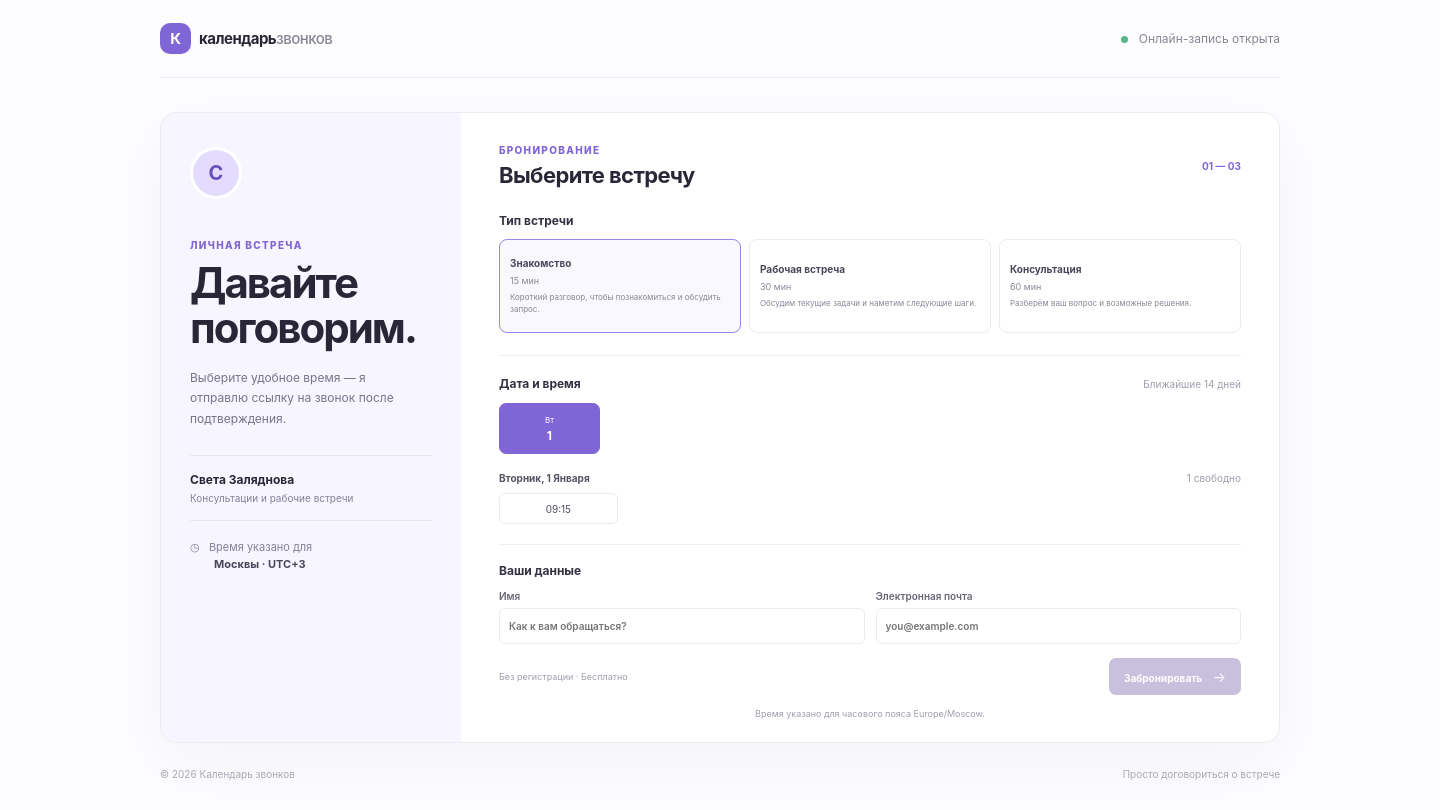
Test: booking application routes › submits the selected slot and shows the server confirmation
Click the button "09:15": {"x": 558, "y": 508} [499,493,618,524]
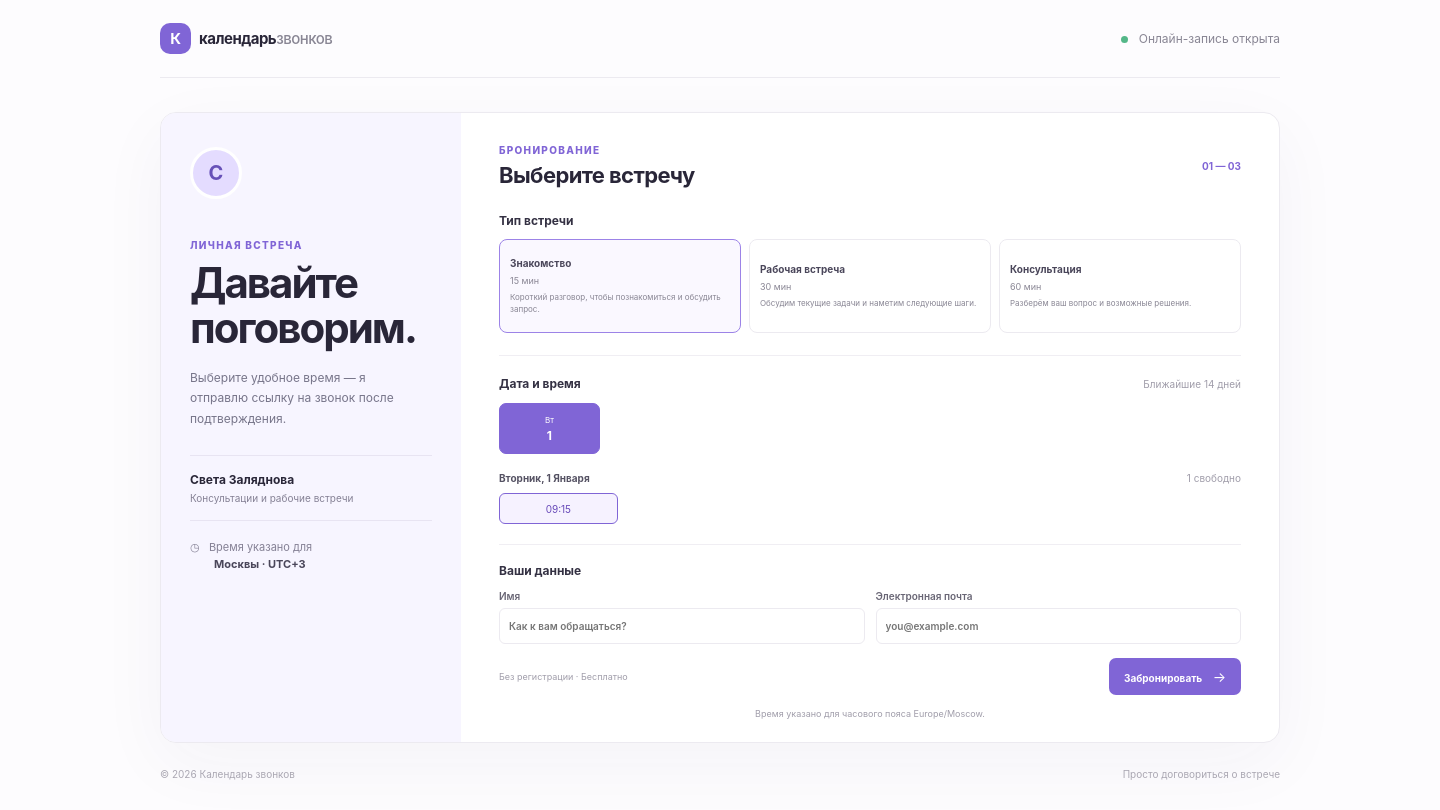
In the field labelled "Имя": {"x": 682, "y": 626} [499,608,864,644], type "Анна"
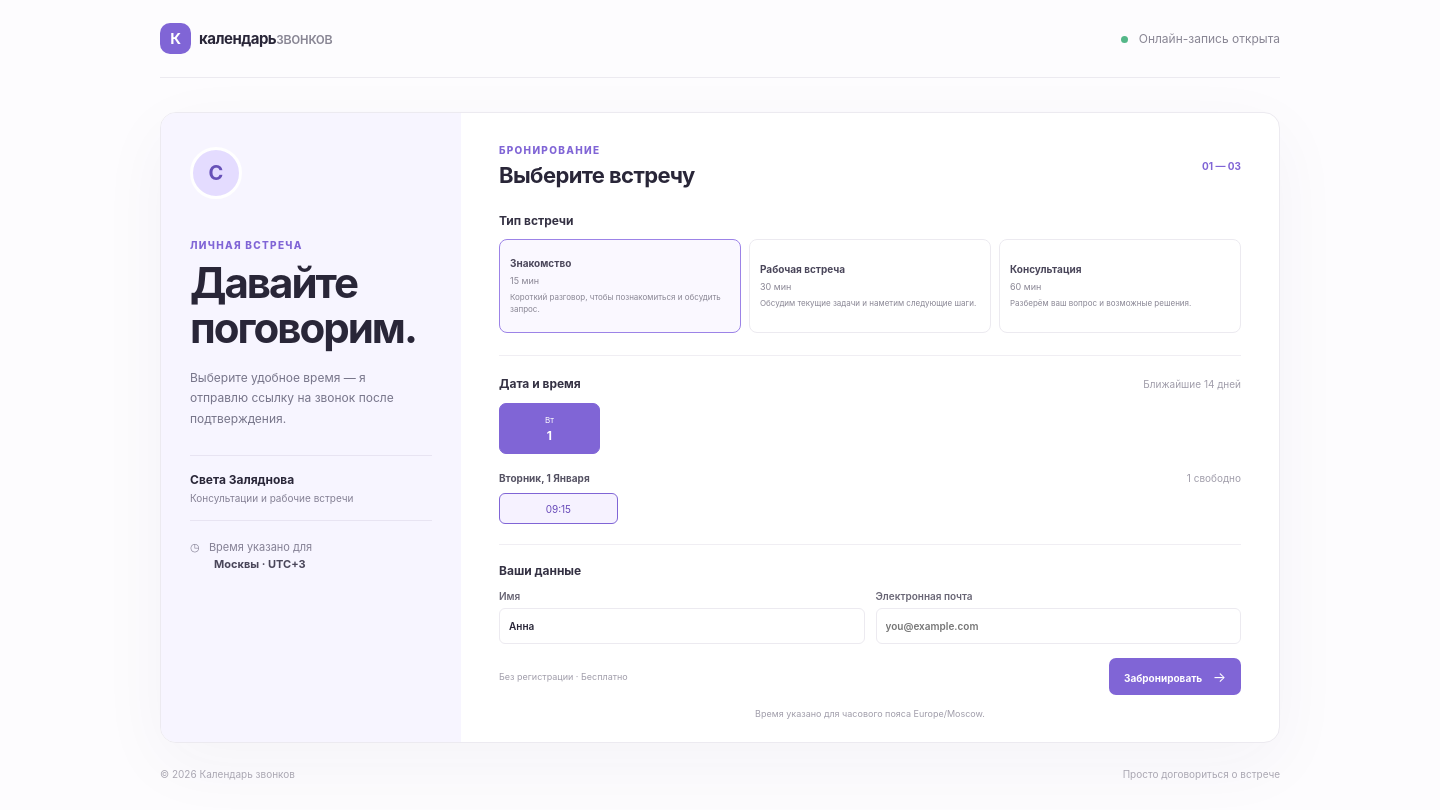
In the field labelled "Электронная почта": {"x": 1058, "y": 626} [876,608,1241,644], type "anna@example.com"
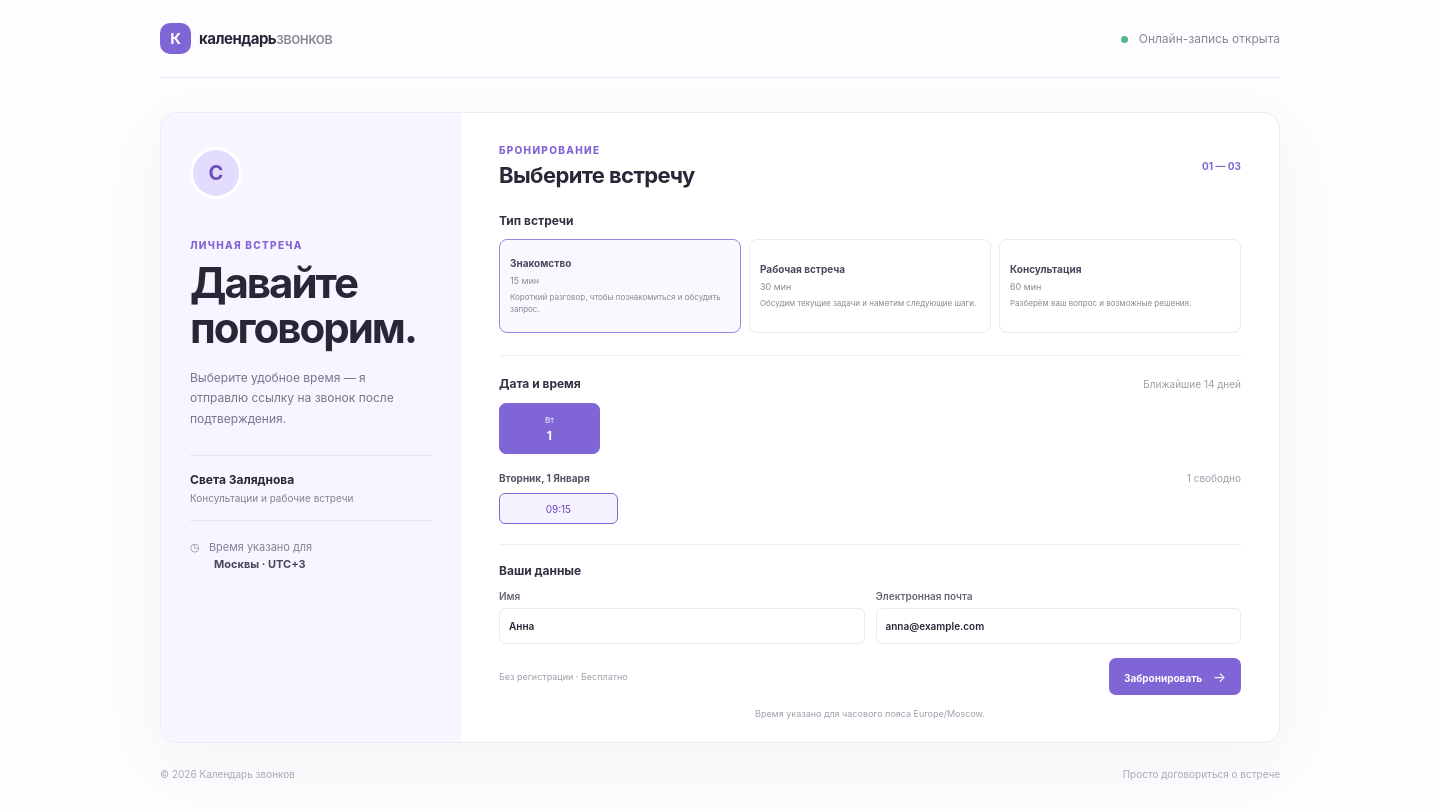
Click the button "Забронировать →": {"x": 1175, "y": 676} [1109,658,1241,695]
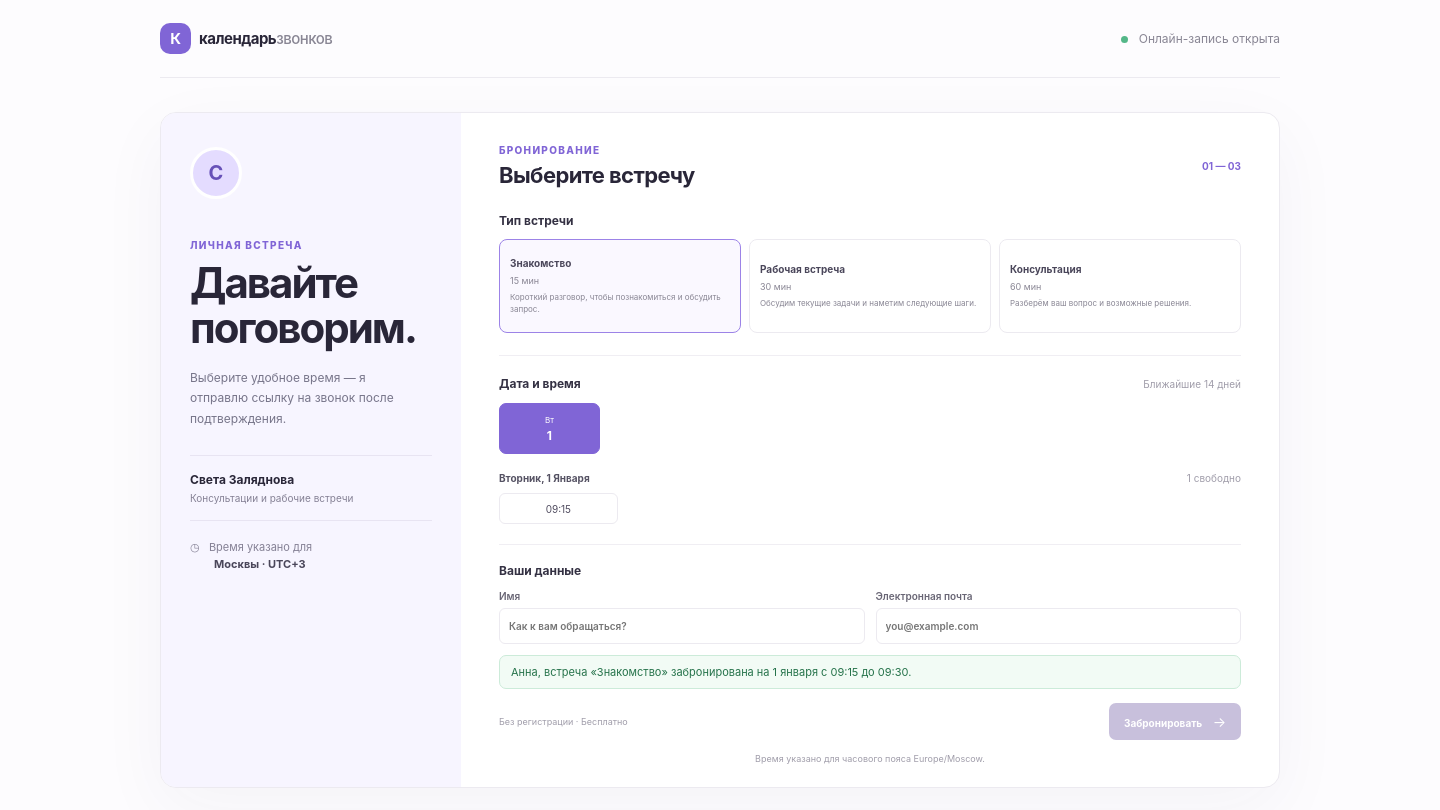
Now the text "Анна, встреча «Знакомство» забронирована на 1 января с 09:15 до 09:30." is shown, box [499,655,1241,689]
